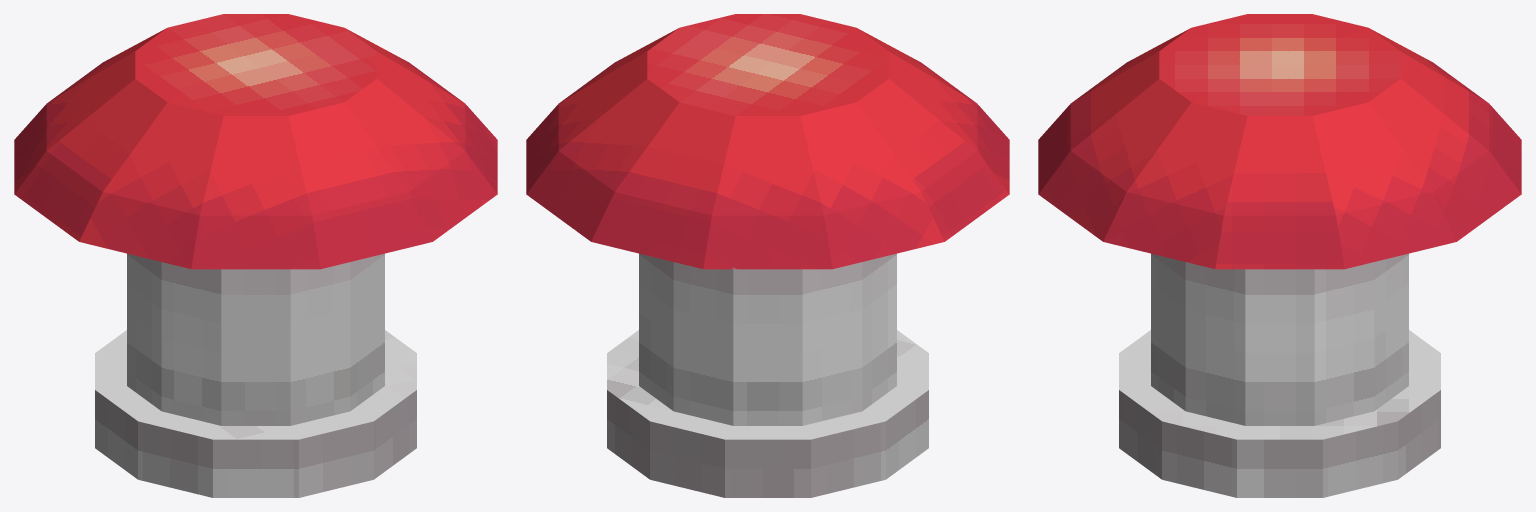
The model's file is button.gltf.
3 renders of one model, left to right at view 1: azimuth 30°, elevation 25°; view 2: azimuth 150°, elevation 25°; view 3: azimuth 270°, elevation 25°, orthographic.
Parts seen in each view (by area): view 1: sphere, cylinder (×2); view 2: sphere, cylinder (×2); view 3: sphere, cylinder (×2).
Boxes of the visible parts, <box> form: sphere: <box>14,14,497,269</box>; cylinder (×2): <box>95,253,416,497</box>; sphere: <box>526,14,1009,269</box>; cylinder (×2): <box>607,253,928,497</box>; sphere: <box>1038,14,1521,269</box>; cylinder (×2): <box>1119,253,1440,497</box>.
Bounding box in the file's own units: 0.9375 × 0.7812 × 0.9375.
Materials: 1 (1 with a texture image).
